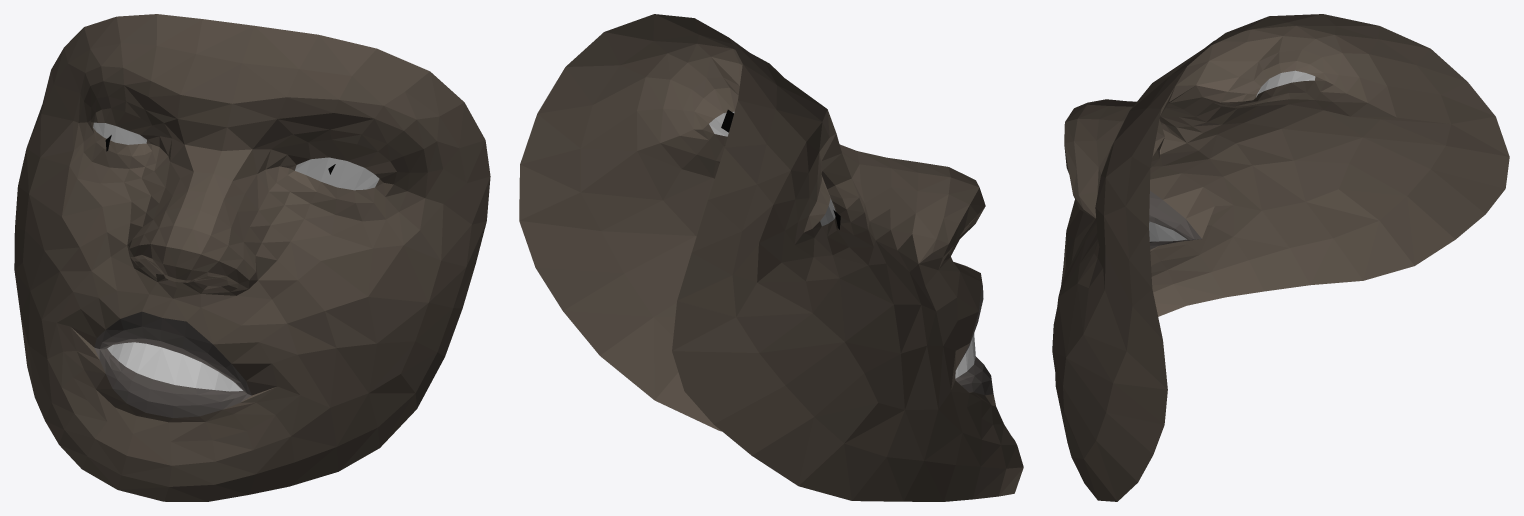
The model's file is FullSizeRender.obj.
3 views of the same model, side by side, from view 1: azimuth 30°, elevation 25°; view 2: azimuth 150°, elevation 25°; view 3: azimuth 270°, elevation 25° (orthographic). The views are drawn at different scales.
Visible parts, largest first — view 1: face_model_with_iris; view 2: face_model_with_iris; view 3: face_model_with_iris.
Part boxes in pixels (bbox=[...]): face_model_with_iris: bbox=[14, 14, 490, 501]; face_model_with_iris: bbox=[519, 14, 1023, 501]; face_model_with_iris: bbox=[1052, 14, 1509, 501].
Bounding box in the file's own units: 1.01 × 0.9304 × 0.8738.
